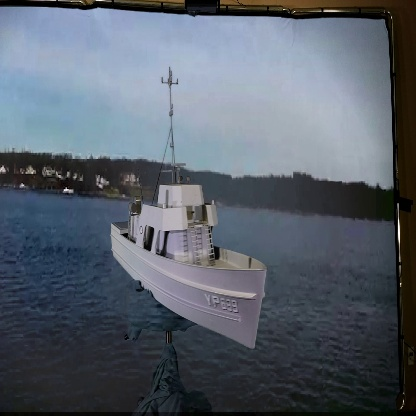YP689: (109, 80, 267, 346)
